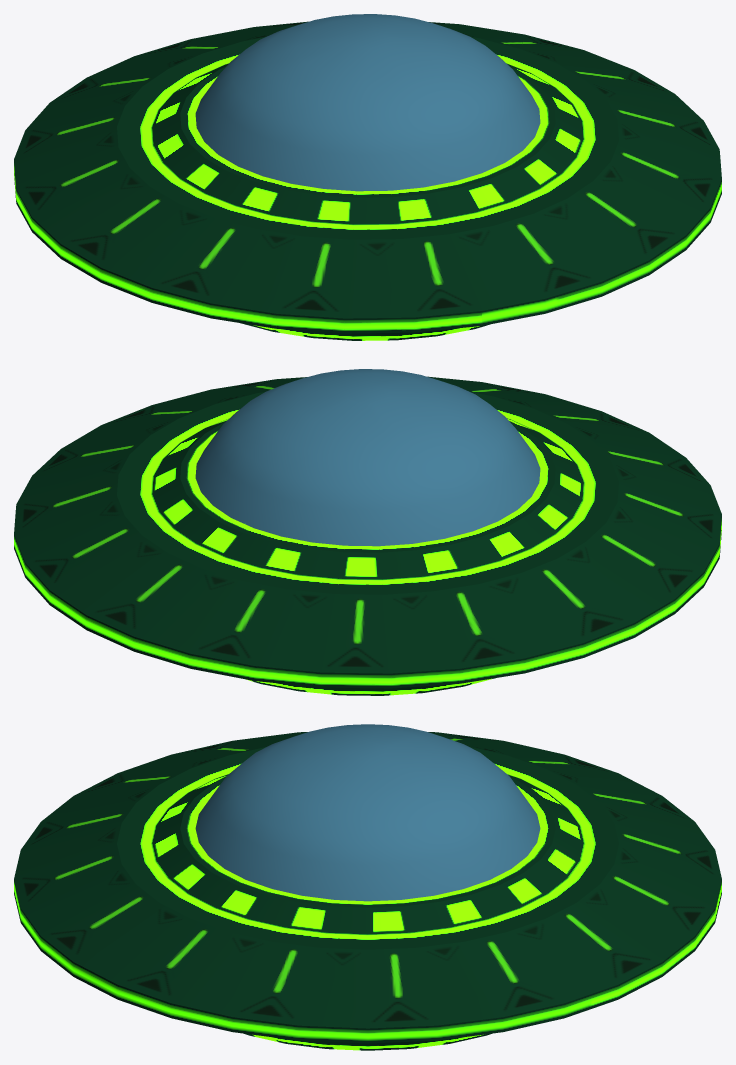
The model's file is ufo.glb.
3 views of the same model, one above another, from view 1: azimuth 30°, elevation 25°; view 2: azimuth 150°, elevation 25°; view 3: azimuth 270°, elevation 25° (orthographic).
Visible parts, largest first — view 1: ufo low poly; view 2: ufo low poly; view 3: ufo low poly.
Boxes of the visible parts, bbox=[...] form: ufo low poly: bbox=[14, 14, 721, 340]; ufo low poly: bbox=[14, 369, 721, 695]; ufo low poly: bbox=[14, 724, 721, 1050].
Bounding box in the file's own units: 283 × 99.48 × 283.
Materials: 1 (1 with a texture image).
